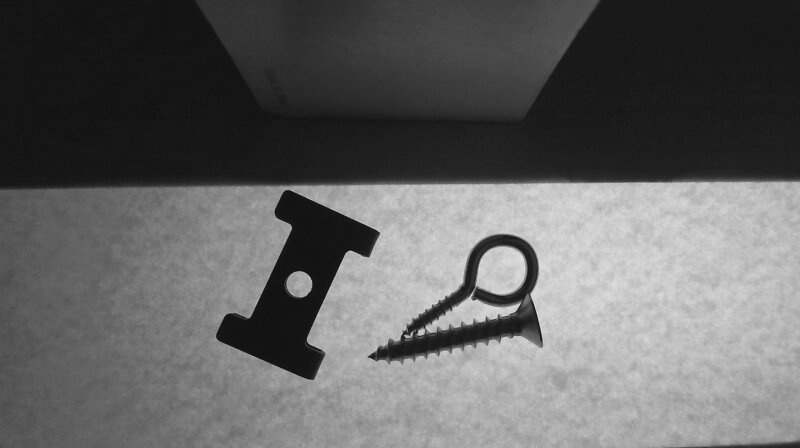O001: (400, 234, 538, 336)
O002: (213, 189, 381, 381)
S001: (366, 295, 543, 364)
